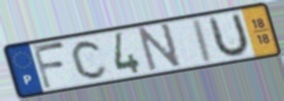4: (113, 29, 144, 76)
C: (70, 38, 110, 81)
F: (30, 40, 68, 91)
I: (192, 16, 216, 67)
N: (137, 21, 183, 73)
U: (207, 11, 251, 61)
